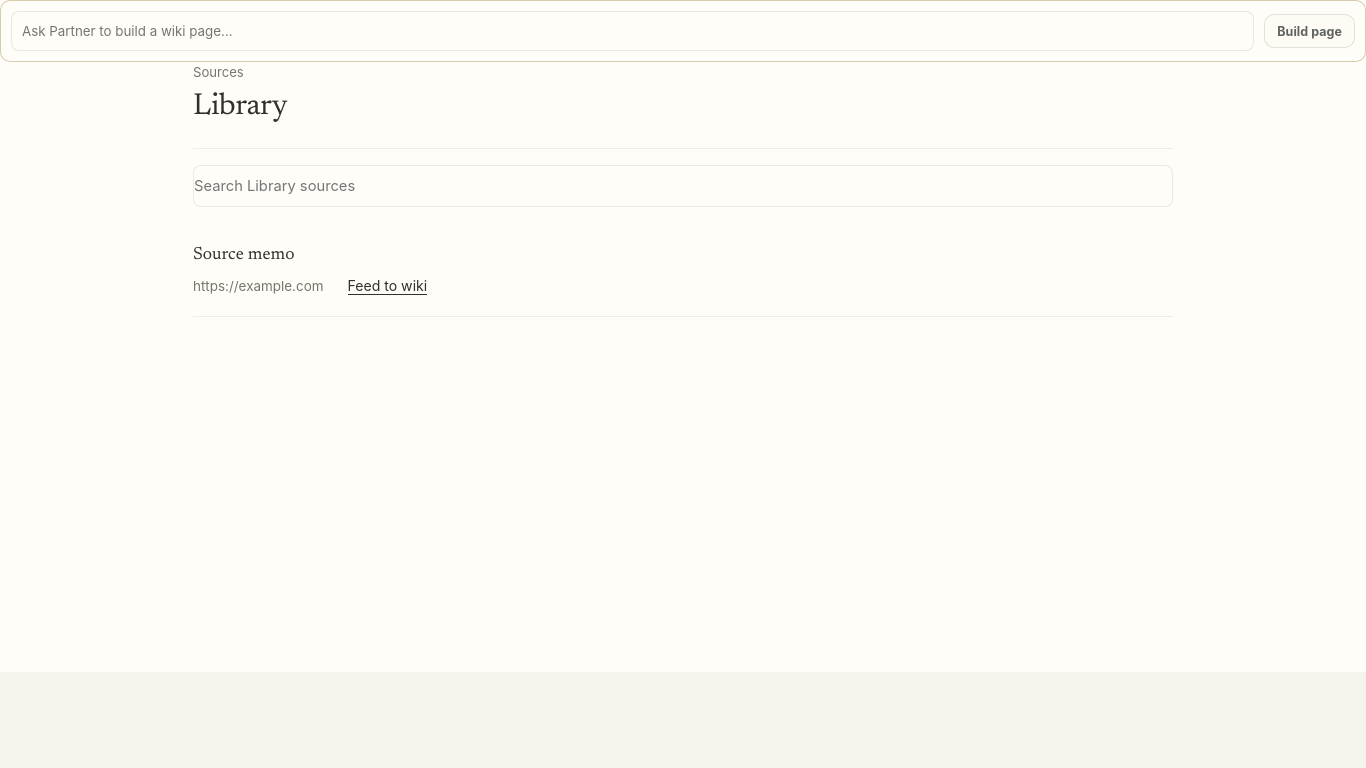
Test: WikiWorkspace › builds a page from a no-match source through the streaming build
The width and height of the screenshot is (1366, 768).
Click the button "Feed to wiki" at (387, 286), box [348,278,427,296]
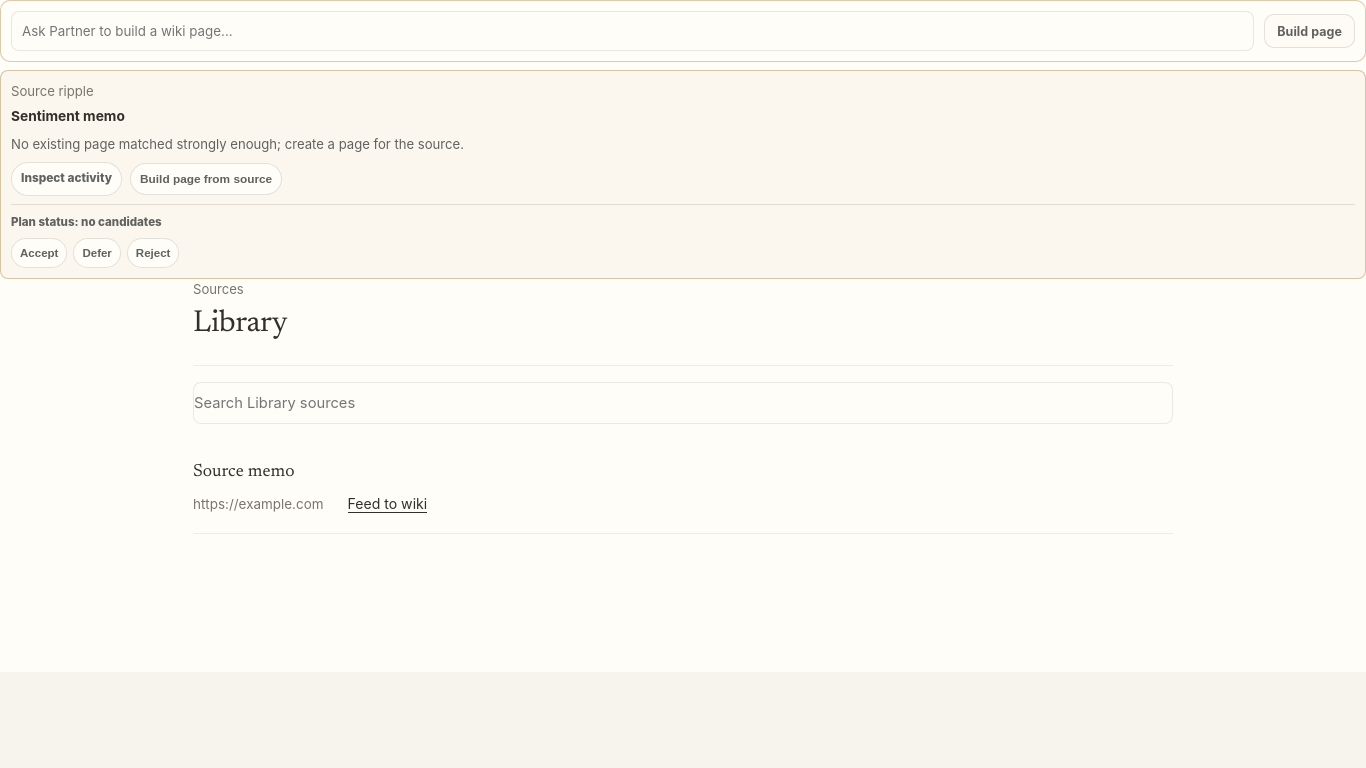
Click the button "Build page from source" at (206, 179), box [130,163,282,195]
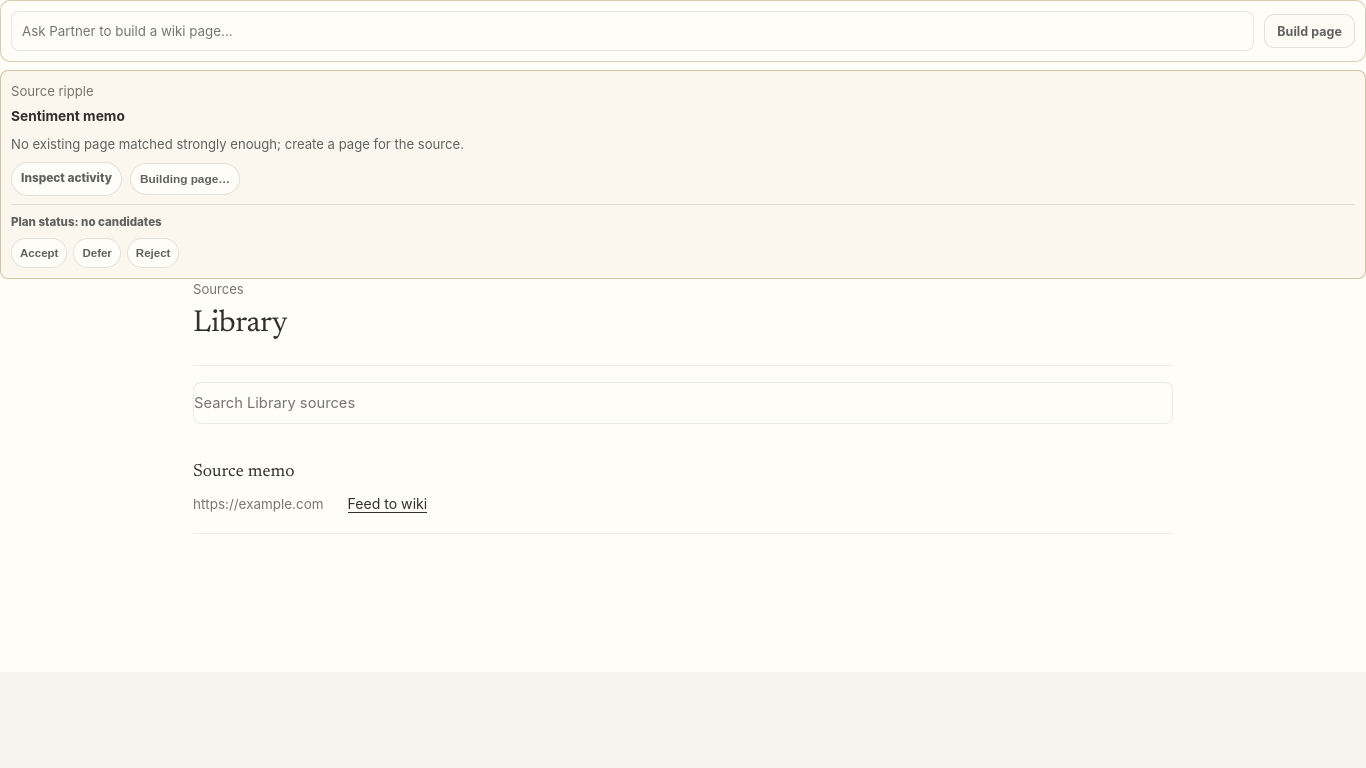
Click the button named "Build page from source" at (185, 179), box [130,163,240,195]
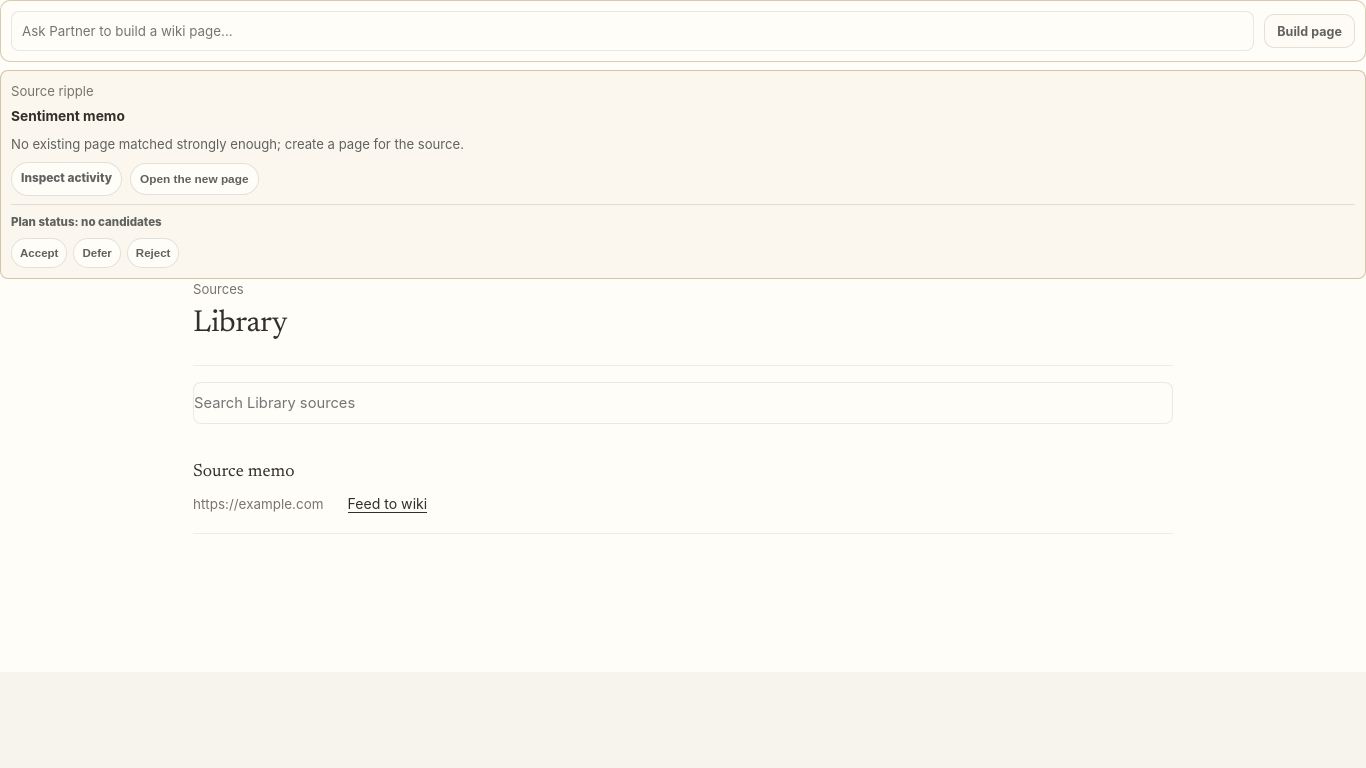
Expected: the button "Open the new page" is enabled, [130,163,259,195]
